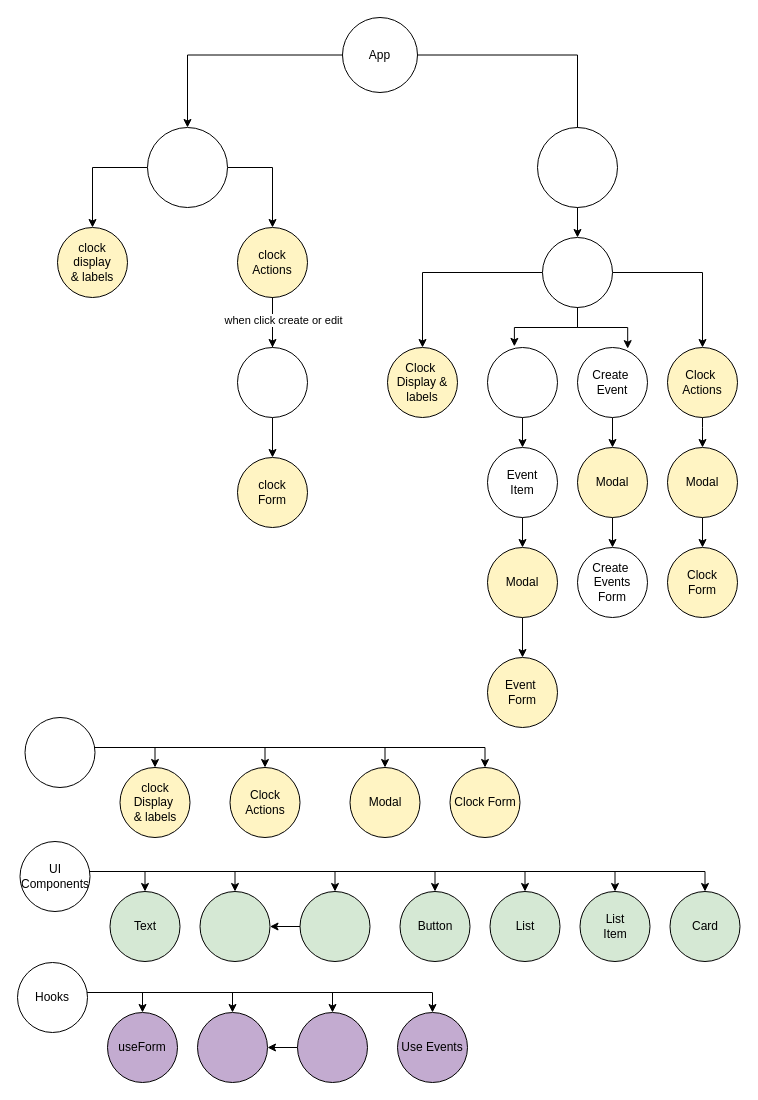
Some shapes in this 758 by 1100 pixel diagram are drawn without their labels. The shapes that lost their labels are listed below. From the top down, each one's centre as x and y in pixels, then its label:
At point (187, 167): "Local Clock".
At point (577, 167): "Clock List".
At point (577, 272): "Clock List Items".
At point (272, 382): "create clock Modal".
At point (522, 382): "Toggle events".
At point (59, 752): "Reusable components".
At point (234, 926): "Input".
At point (334, 926): "Select".
At point (232, 1047): "useClock".
At point (332, 1047): "useClocks".
